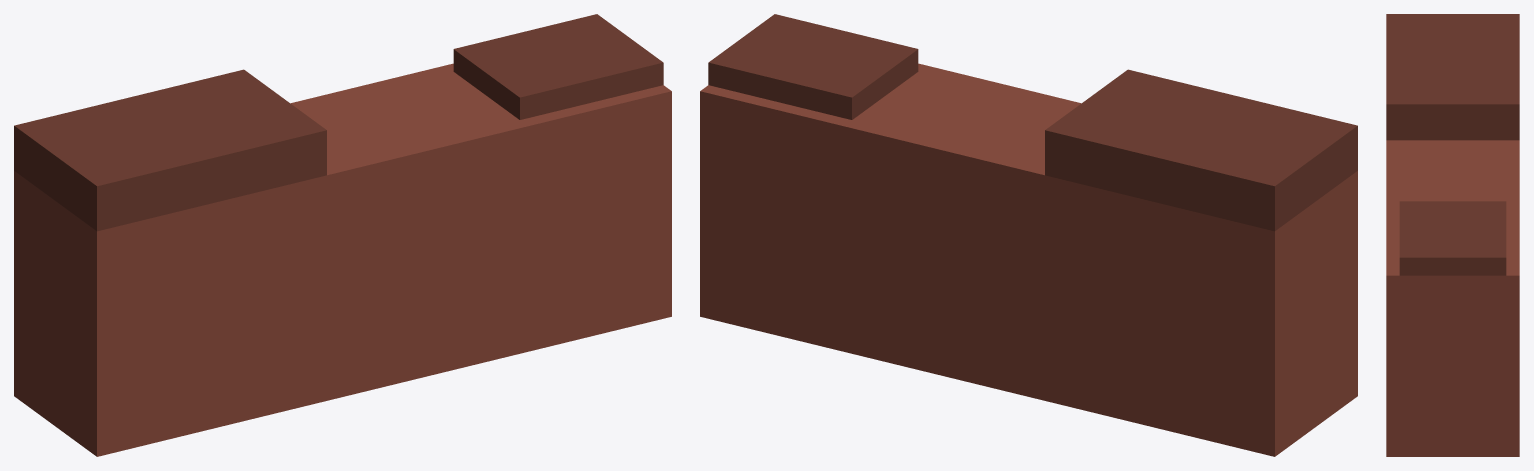
Rendered from cover_wall.glb.
3 renders of one model, left to right at view 1: azimuth 30°, elevation 25°; view 2: azimuth 150°, elevation 25°; view 3: azimuth 270°, elevation 25°, orthographic. The views are drawn at different scales.
Visible parts, largest first — view 1: cover_wall; view 2: cover_wall; view 3: cover_wall.
Boxes of the visible parts, left/top/right/bottom form: cover_wall: left=14, top=14, right=671, bottom=456; cover_wall: left=700, top=14, right=1357, bottom=456; cover_wall: left=1386, top=14, right=1519, bottom=456.
Size of the model in its own units: 4 by 1.8 by 1.
